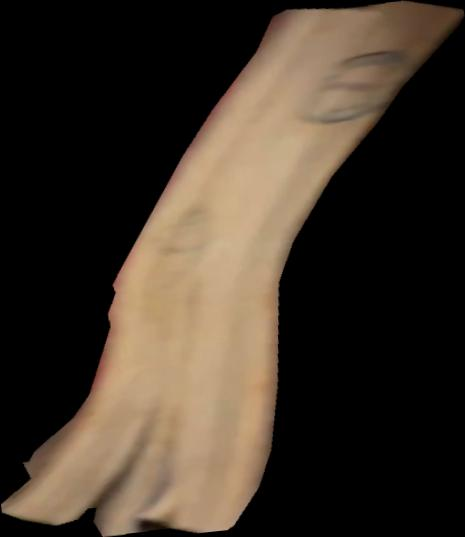backward: (1, 1, 465, 537)
